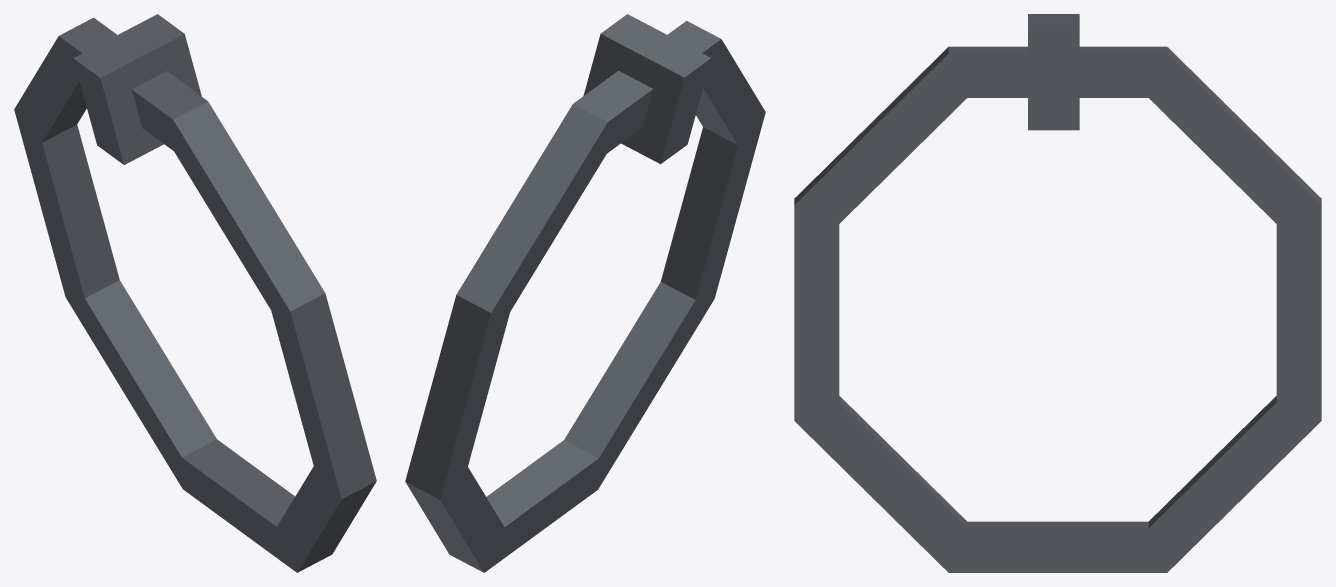
File: SM_Wep_Grenade_Pin_01.fbx
3 renders of one model, left to right at view 1: azimuth 30°, elevation 25°; view 2: azimuth 150°, elevation 25°; view 3: azimuth 270°, elevation 25°, orthographic. The views are drawn at different scales.
Parts seen in each view (by area): view 1: SM_Wep_Grenade_Pin_01; view 2: SM_Wep_Grenade_Pin_01; view 3: SM_Wep_Grenade_Pin_01.
Boxes of the visible parts, left/top/right/bottom form: SM_Wep_Grenade_Pin_01: left=14, top=14, right=376, bottom=572; SM_Wep_Grenade_Pin_01: left=405, top=14, right=765, bottom=572; SM_Wep_Grenade_Pin_01: left=794, top=14, right=1321, bottom=572.
Size of the model in its own units: 1.56 by 4.13 by 3.93.
